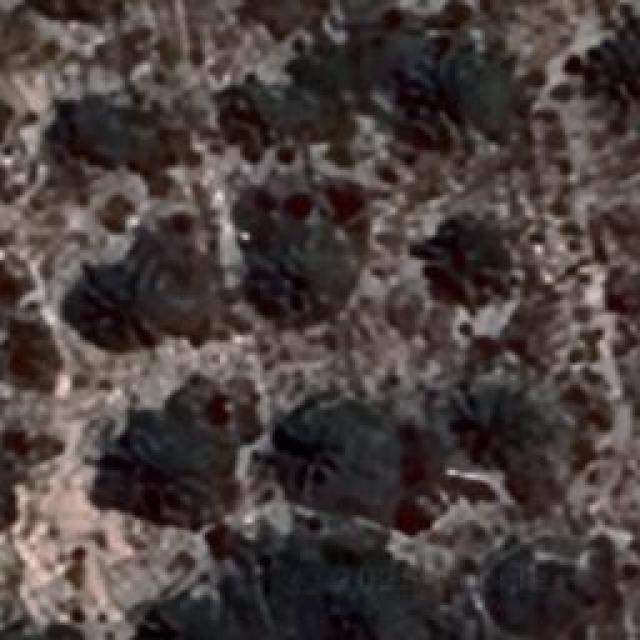PalmTree: (53, 83, 358, 598), (118, 410, 222, 512), (464, 375, 554, 485), (288, 422, 392, 506), (497, 550, 575, 640), (260, 224, 342, 308), (230, 81, 320, 154), (75, 105, 170, 170), (420, 55, 498, 130), (74, 281, 158, 349), (140, 598, 240, 640), (432, 226, 486, 296), (22, 0, 119, 26), (242, 0, 320, 31), (611, 264, 640, 332), (619, 262, 640, 332)
